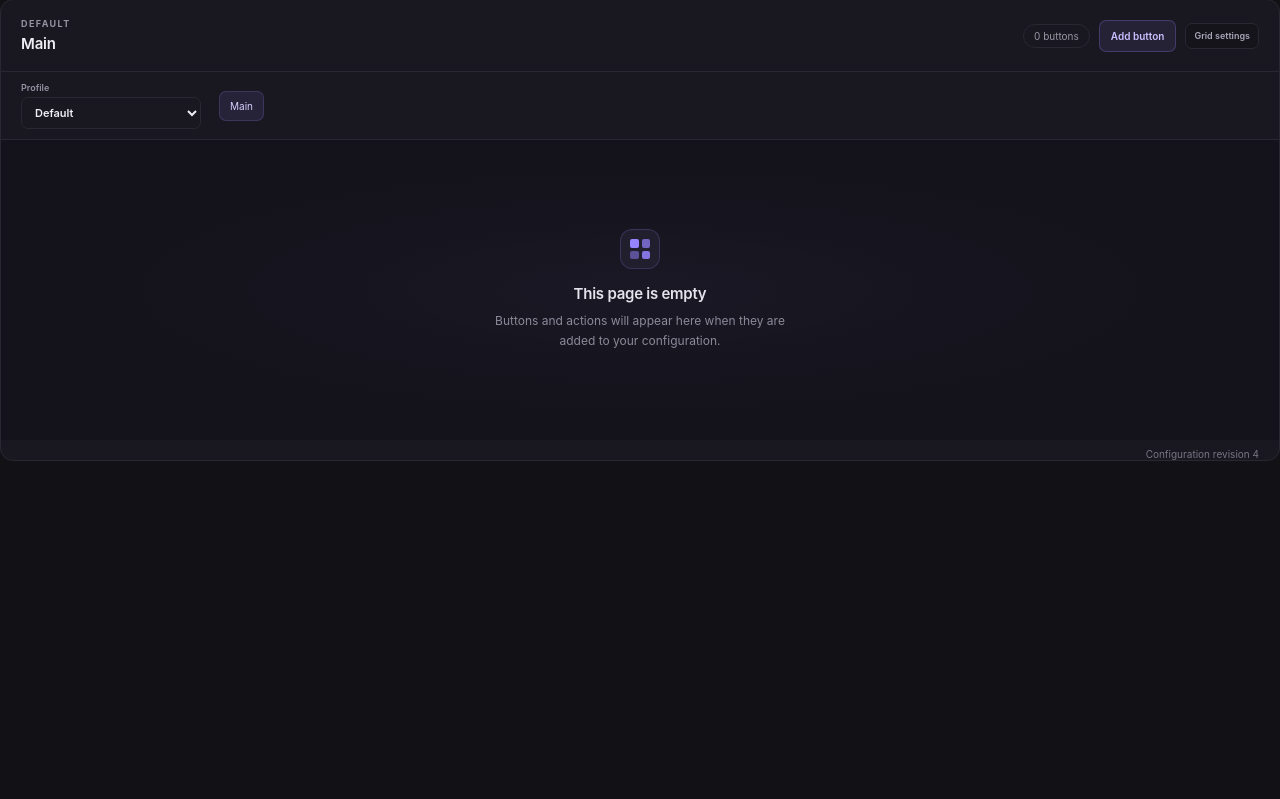
Test case: ConfigurationButtonGrid › rejects relative application paths and keeps the editor draft
The image size is (1280, 799).
Click the button "Add button" at (1138, 36), box [1099,20,1176,52]
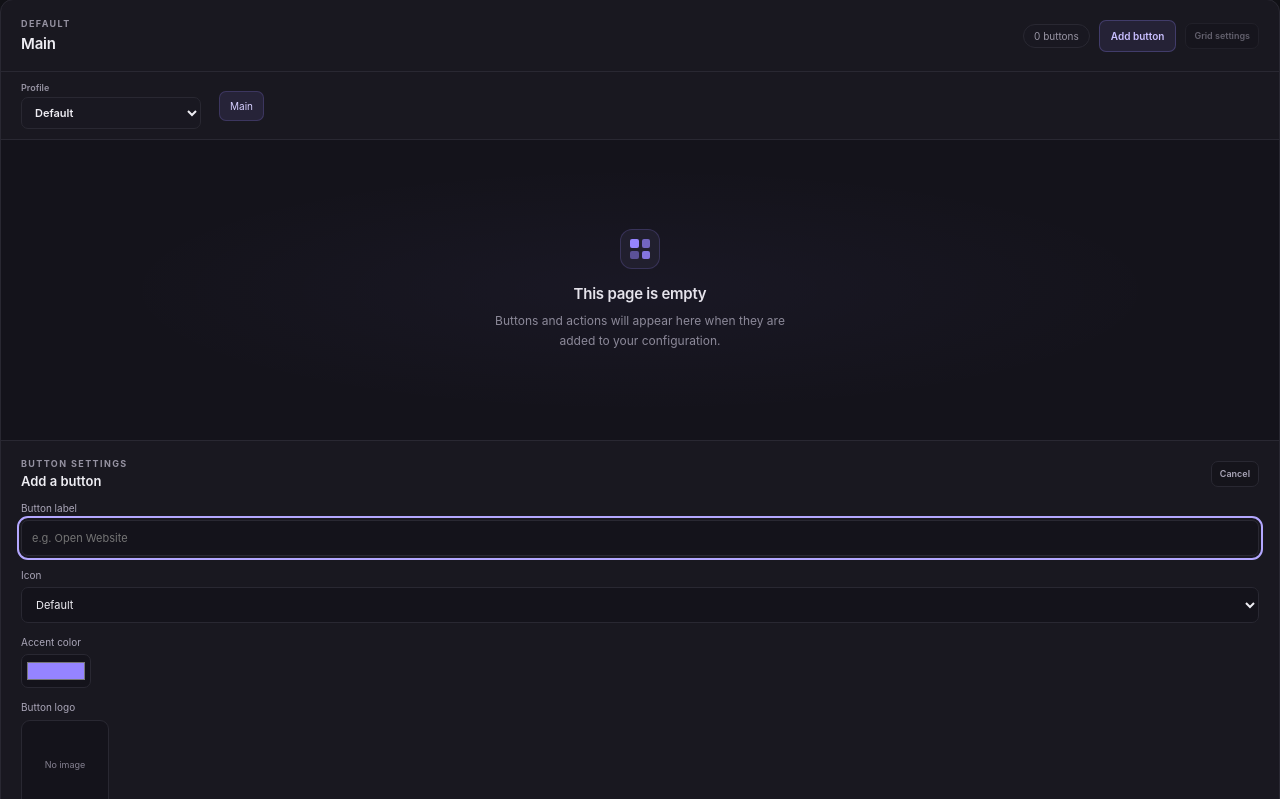
Type "Relative app" into the field labelled "Button label" at (640, 538), box [21,520,1259,556]
(page scrolled)
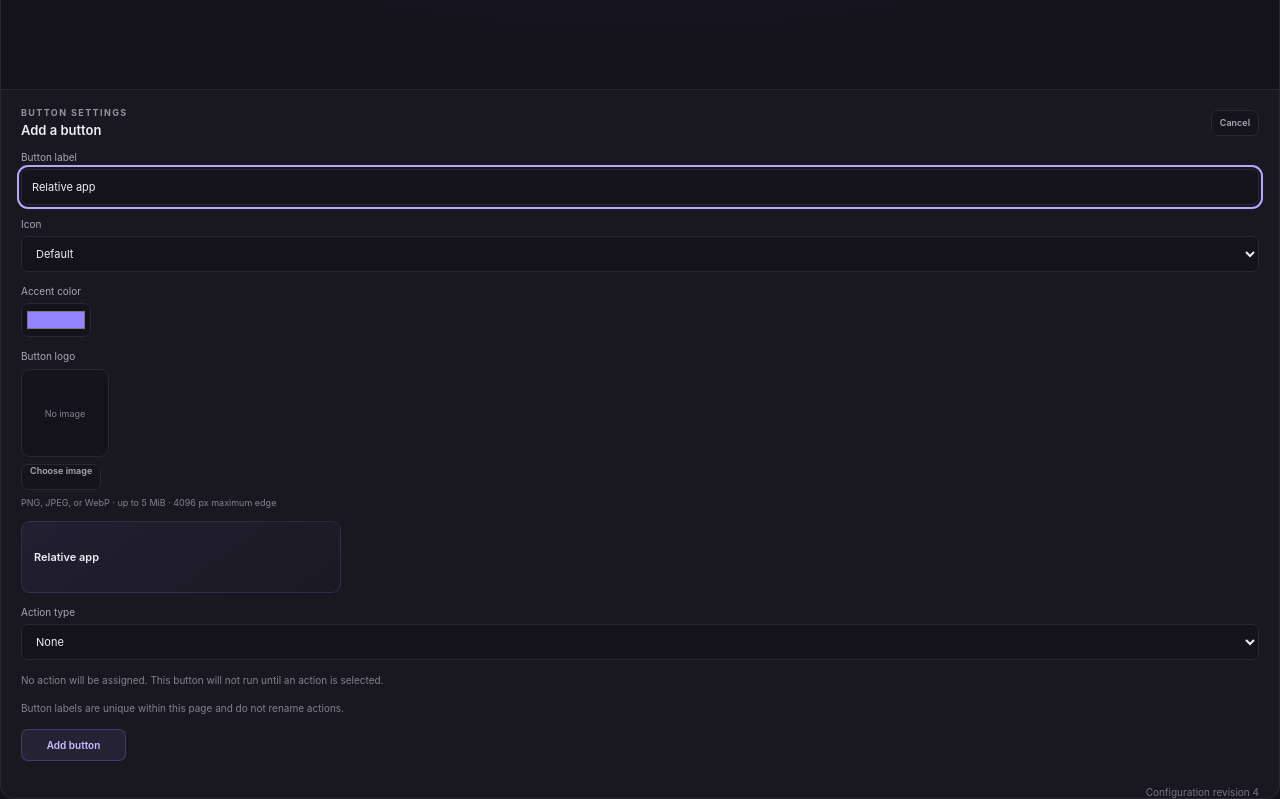
Select "Application" in the dropdown labelled "Action type" at (640, 642), box [21,624,1259,660]
(page scrolled)
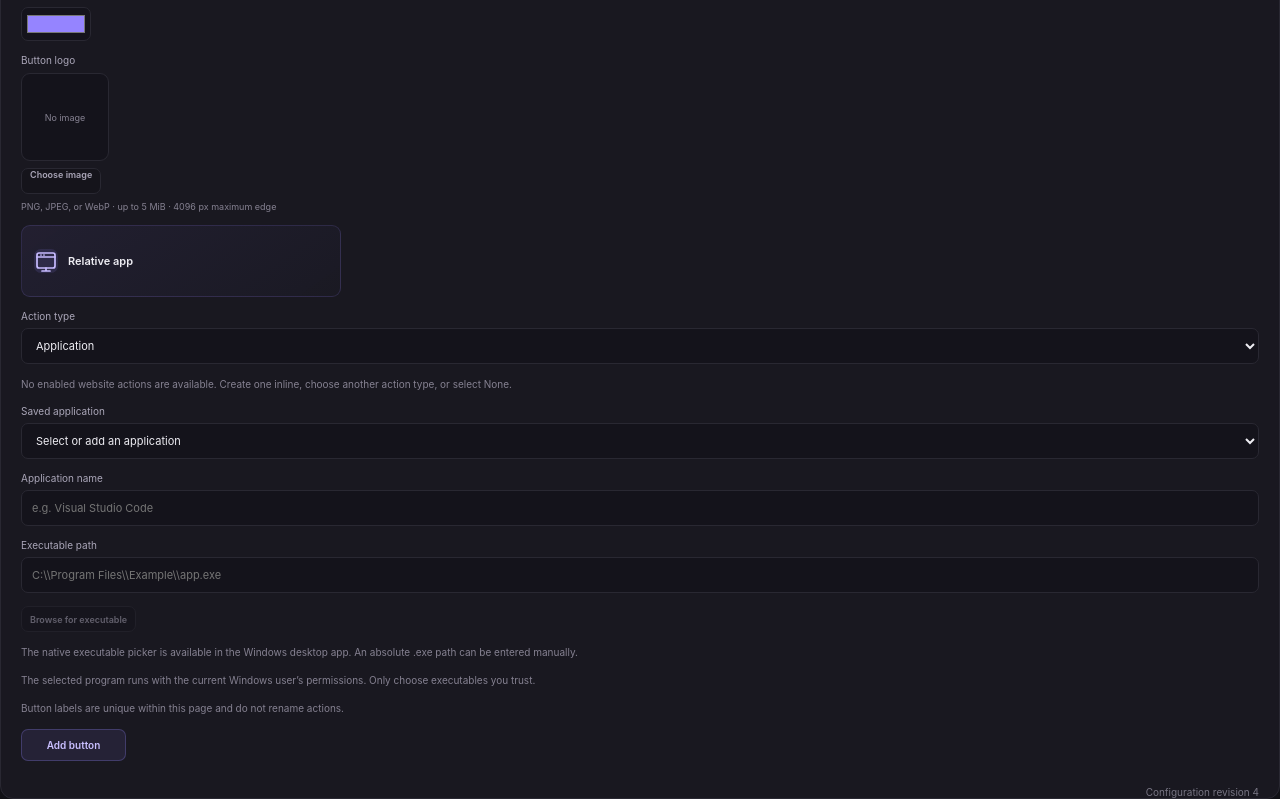
Type "Unsafe executable" into the field labelled "Application name" at (640, 508), box [21,490,1259,526]
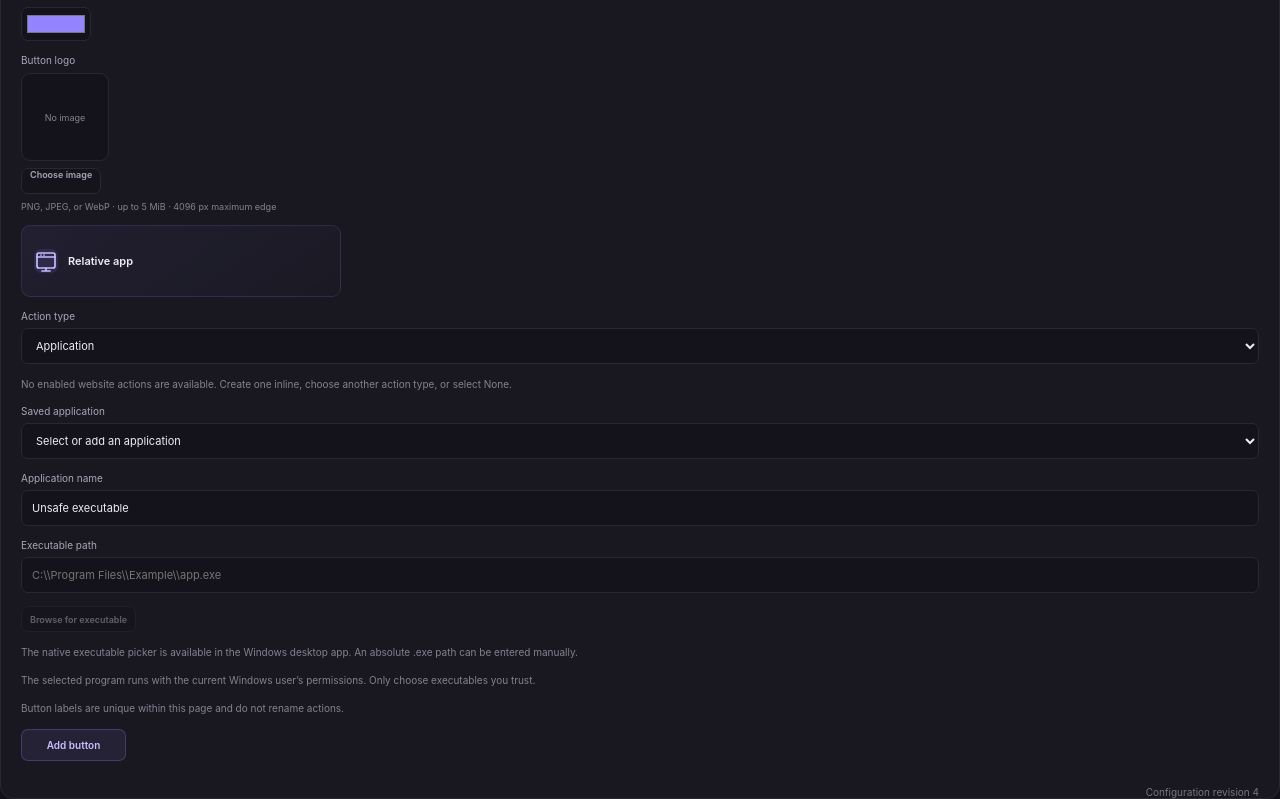
Type "app.exe" into the field named "Application executable path" at (640, 575), box [21,557,1259,593]
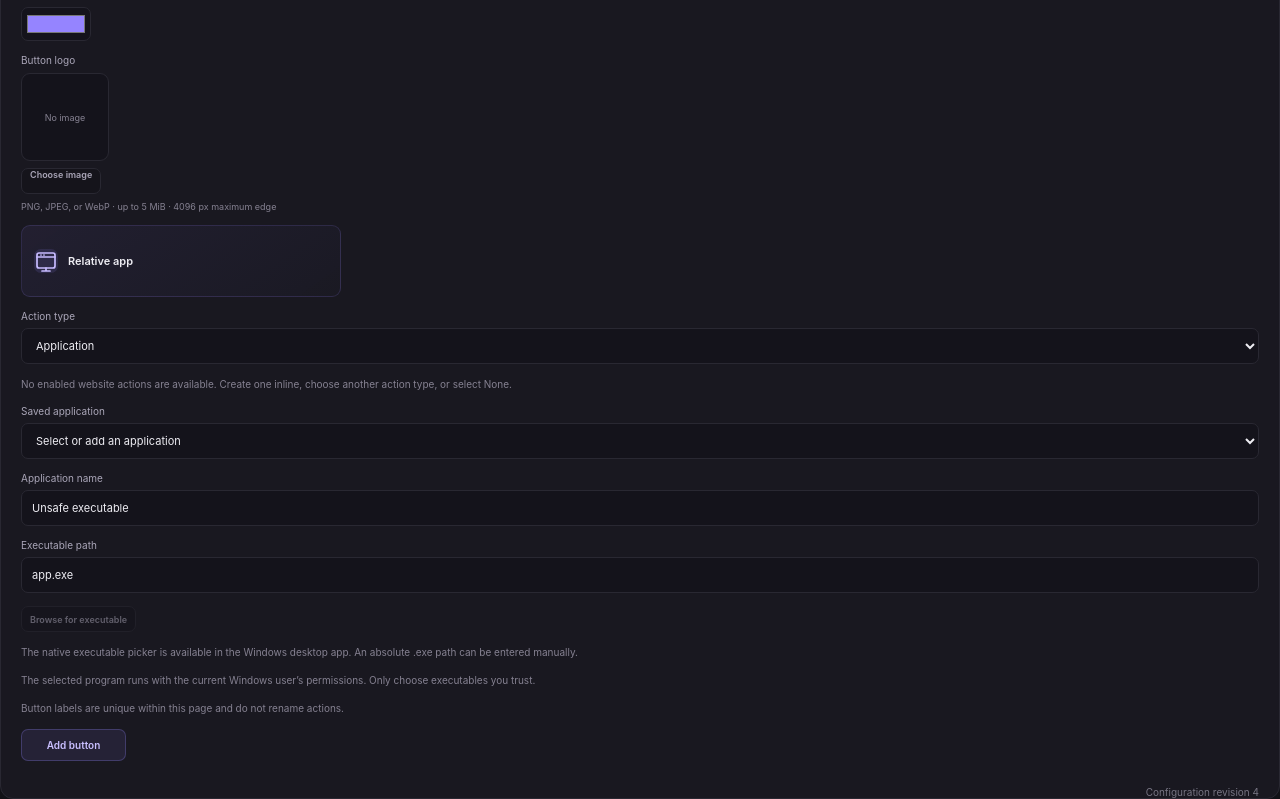
Click the button "Add button" at (74, 745), box [21,729,126,761]
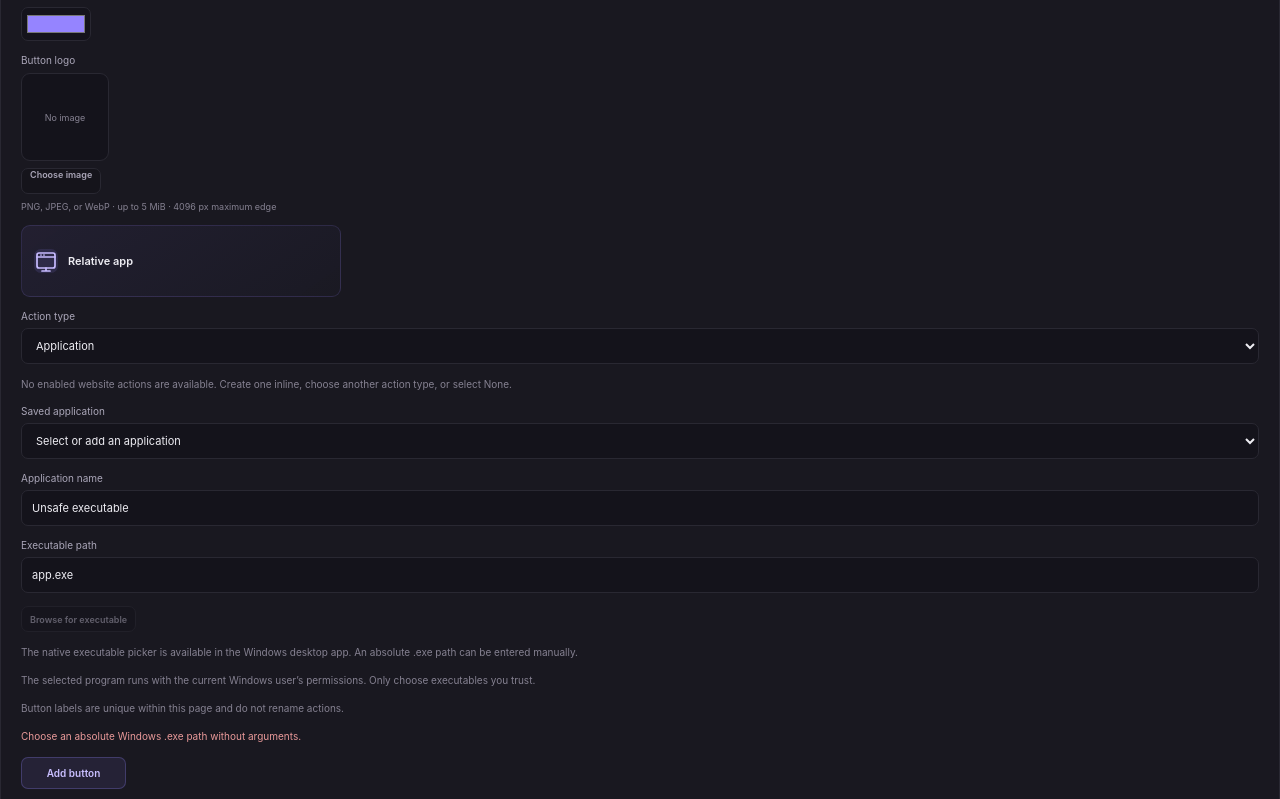
Check: the message "Choose an absolute Windows .exe path without arguments." is shown, box [21,730,301,742]
